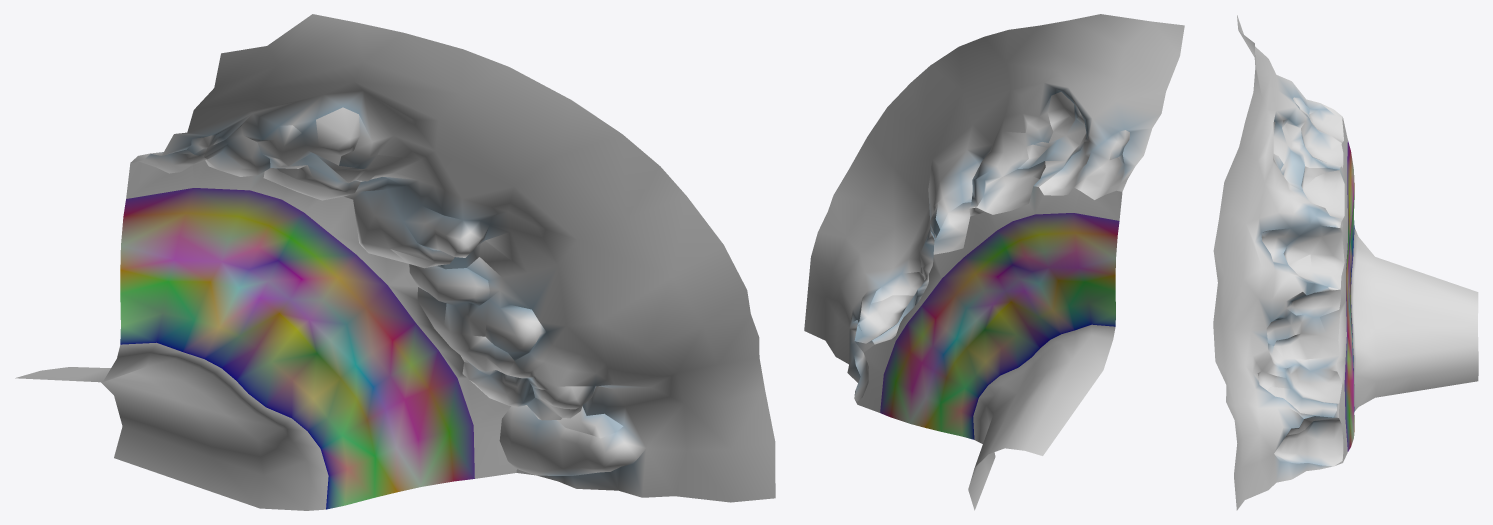
The model's file is Snow_CurveInC_lod1.glb.
3 views of the same model, side by side, from view 1: azimuth 30°, elevation 25°; view 2: azimuth 150°, elevation 25°; view 3: azimuth 270°, elevation 25° (orthographic). The views are drawn at different scales.
Parts seen in each view (by area): view 1: MeshNode_1, MeshNode_0; view 2: MeshNode_1, MeshNode_0; view 3: MeshNode_1, MeshNode_0.
Part boxes in pixels (x1,y1,x2,y2): MeshNode_1: (15, 14, 775, 510); MeshNode_0: (120, 188, 474, 509); MeshNode_1: (804, 14, 1184, 510); MeshNode_0: (880, 213, 1119, 439); MeshNode_1: (1213, 15, 1478, 510); MeshNode_0: (1344, 141, 1354, 451).
Bounding box in the file's own units: 128 × 128 × 90.91.
